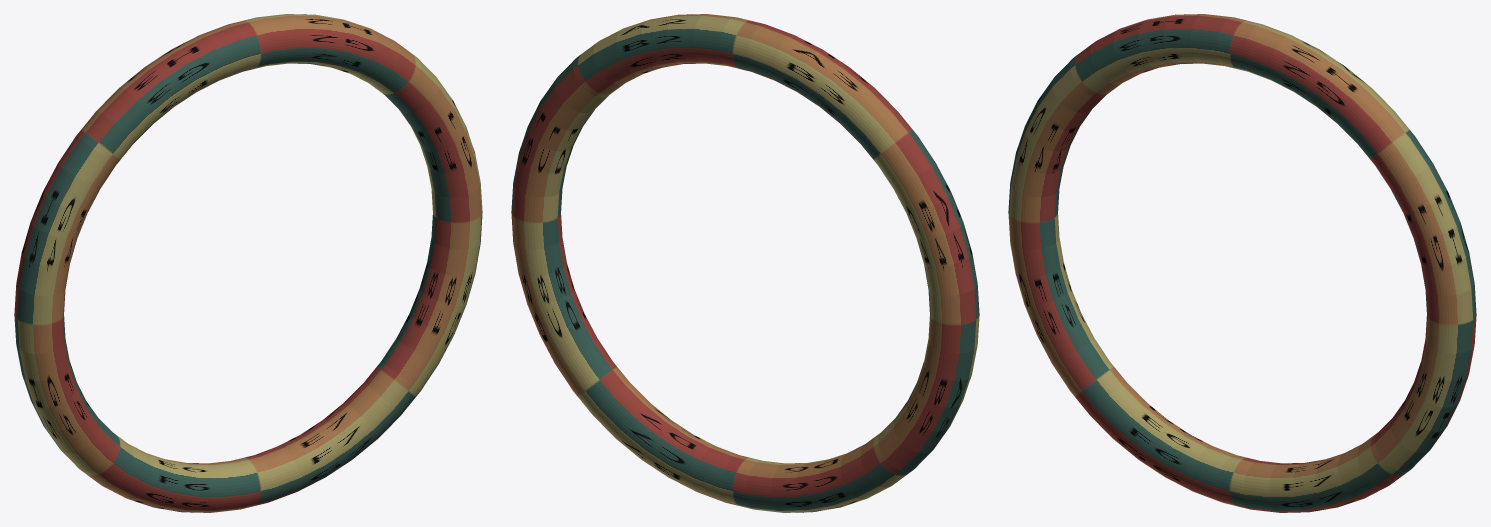
File: texture_torus_R22_r2.glb
The picture shows the model from 3 angles, left to right: view 1: azimuth 30°, elevation 25°; view 2: azimuth 150°, elevation 25°; view 3: azimuth 330°, elevation 25°; orthographic projection.
Parts seen in each view (by area): view 1: world; view 2: world; view 3: world.
Boxes of the visible parts, <box> form: world: <box>14,14,482,512</box>; world: <box>511,14,979,512</box>; world: <box>1008,14,1476,512</box>.
Bounding box in the file's own units: 27.2 × 27.15 × 2.53.
Materials: 1 (1 with a texture image).
